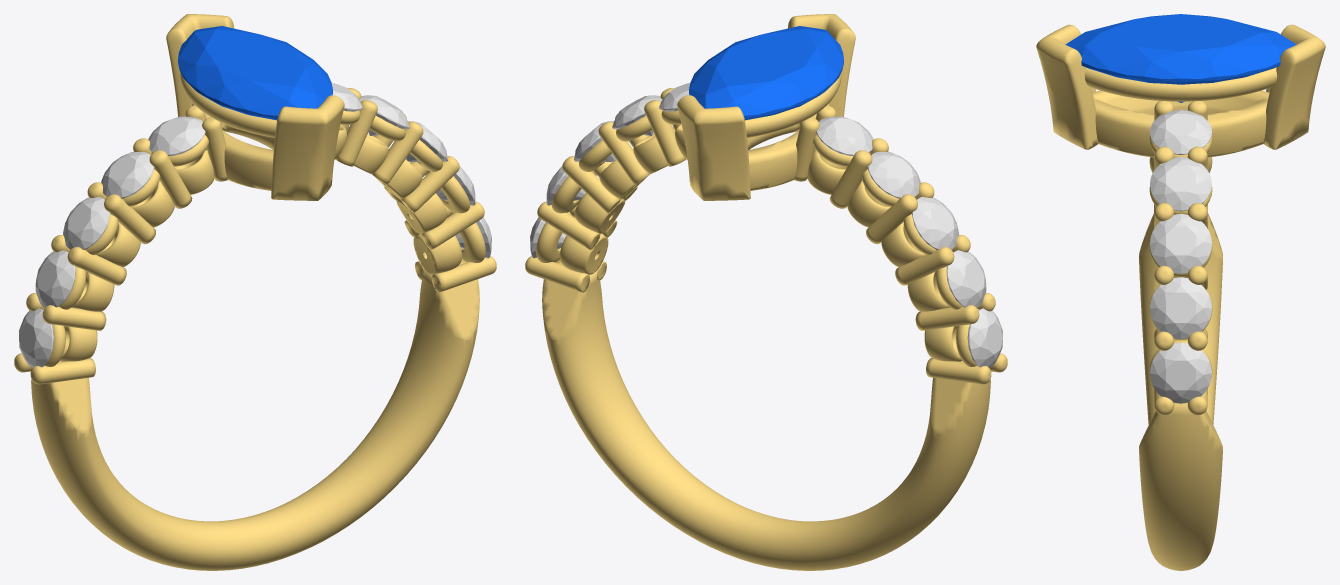
The model's file is bluesapphire-marquise-yellowgold-protectededges2prongs-taperedband-11stone.glb.
3 renders of one model, left to right at view 1: azimuth 30°, elevation 25°; view 2: azimuth 150°, elevation 25°; view 3: azimuth 270°, elevation 25°, orthographic.
Visible parts, largest first — view 1: metal, stone, dia.004, dia.005, dia.003, dia.006, dia, dia.010; view 2: metal, stone, dia.004, dia.005, dia.003, dia.006, dia, dia.010; view 3: metal, stone, dia.008, dia.007, dia.009, dia.010, dia.011.
Part boxes in pixels (box(x1,y1,x2,y2)): metal: box(14, 14, 496, 570); stone: box(178, 26, 332, 120); dia.004: box(63, 196, 109, 249); dia.005: box(101, 151, 154, 198); dia.003: box(35, 250, 75, 307); dia.006: box(148, 116, 205, 155); dia: box(19, 308, 54, 367); dia.010: box(359, 95, 409, 135); metal: box(525, 14, 1007, 570); stone: box(689, 26, 843, 120); dia.004: box(912, 196, 958, 249); dia.005: box(867, 151, 920, 198); dia.003: box(946, 250, 986, 307); dia.006: box(816, 116, 873, 155); dia: box(967, 308, 1002, 367); dia.010: box(612, 95, 662, 135); metal: box(1036, 24, 1325, 570); stone: box(1065, 14, 1296, 102); dia.008: box(1150, 277, 1211, 339); dia.007: box(1150, 342, 1211, 403); dia.009: box(1150, 214, 1211, 273); dia.010: box(1150, 157, 1211, 211); dia.011: box(1150, 109, 1211, 154).
Size of the model in its own units: 21.97 by 22.93 by 11.69.
